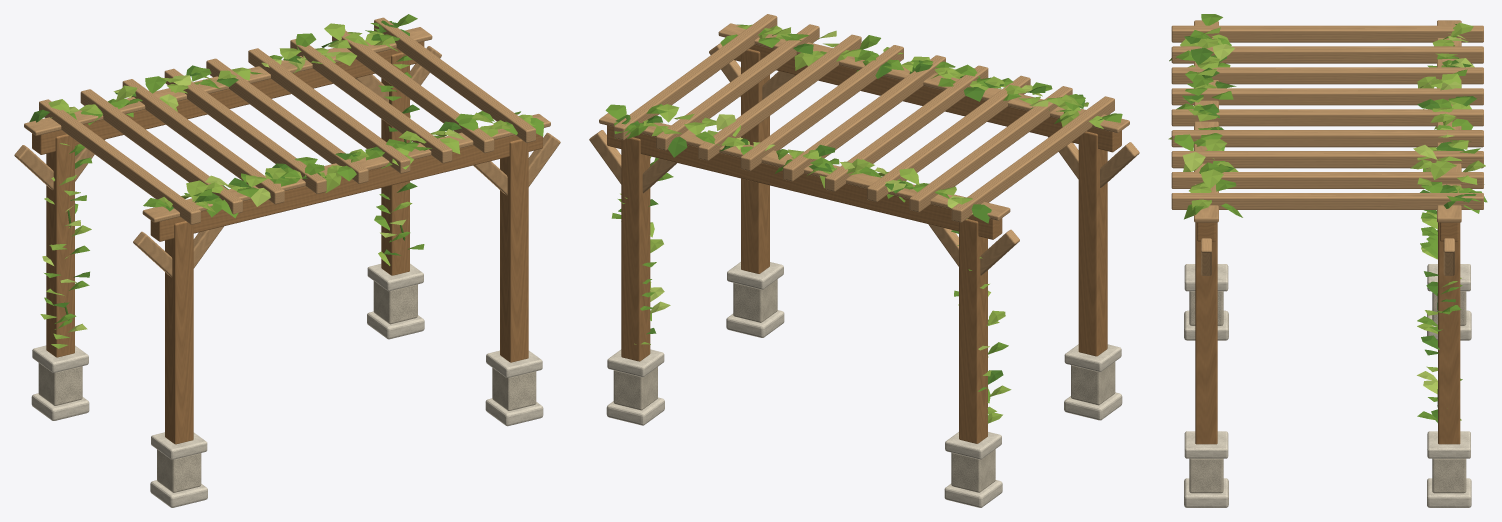
Rendered from pergola.glb.
3 renders of one model, left to right at view 1: azimuth 30°, elevation 25°; view 2: azimuth 150°, elevation 25°; view 3: azimuth 270°, elevation 25°, orthographic. The views are drawn at different scales.
Visible parts, largest first — view 1: pergola; view 2: pergola; view 3: pergola.
Boxes of the visible parts, x1,y1,x2,y2 form: pergola: (14,14,560,507); pergola: (589,14,1139,507); pergola: (1168,14,1487,507).
Size of the model in its own units: 4.24 by 2.92 by 2.71.
Materials: 8 (4 with a texture image).
